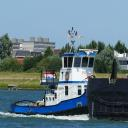tugboat: (9, 49, 99, 119)
